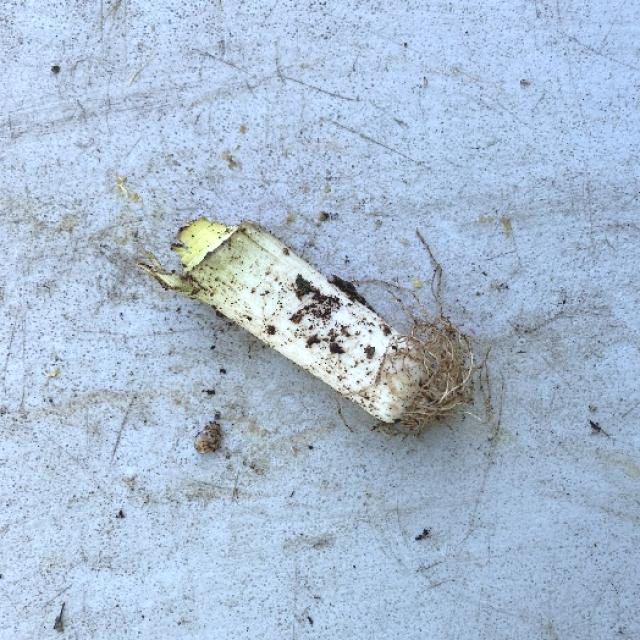wet: (132, 199, 470, 469)
